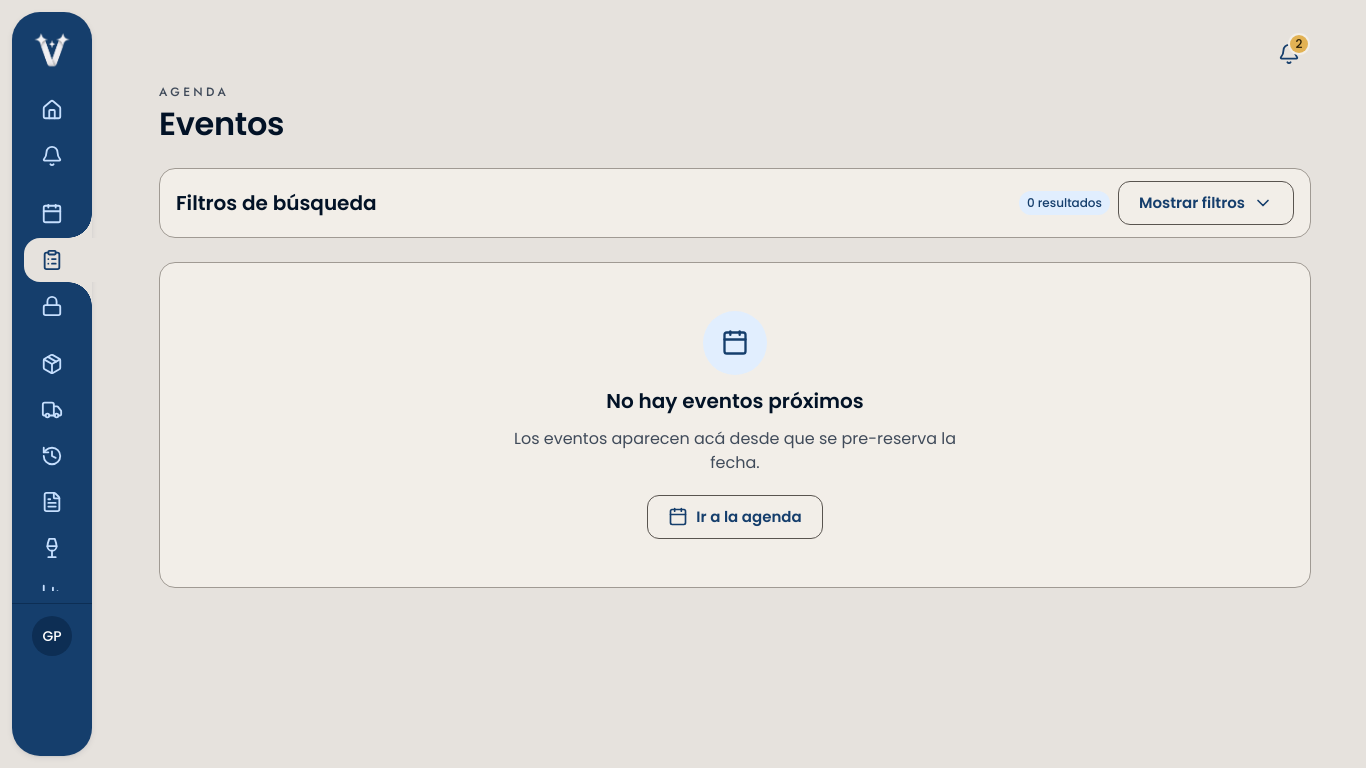
Scenario: UI-22 · notificaciones › el panel lista las sin leer y abrir una la marca y lleva a la ficha
Click the button named "Notificaciones, 2 sin leer". click: (1289, 54)
box: [1267,32,1311,76]
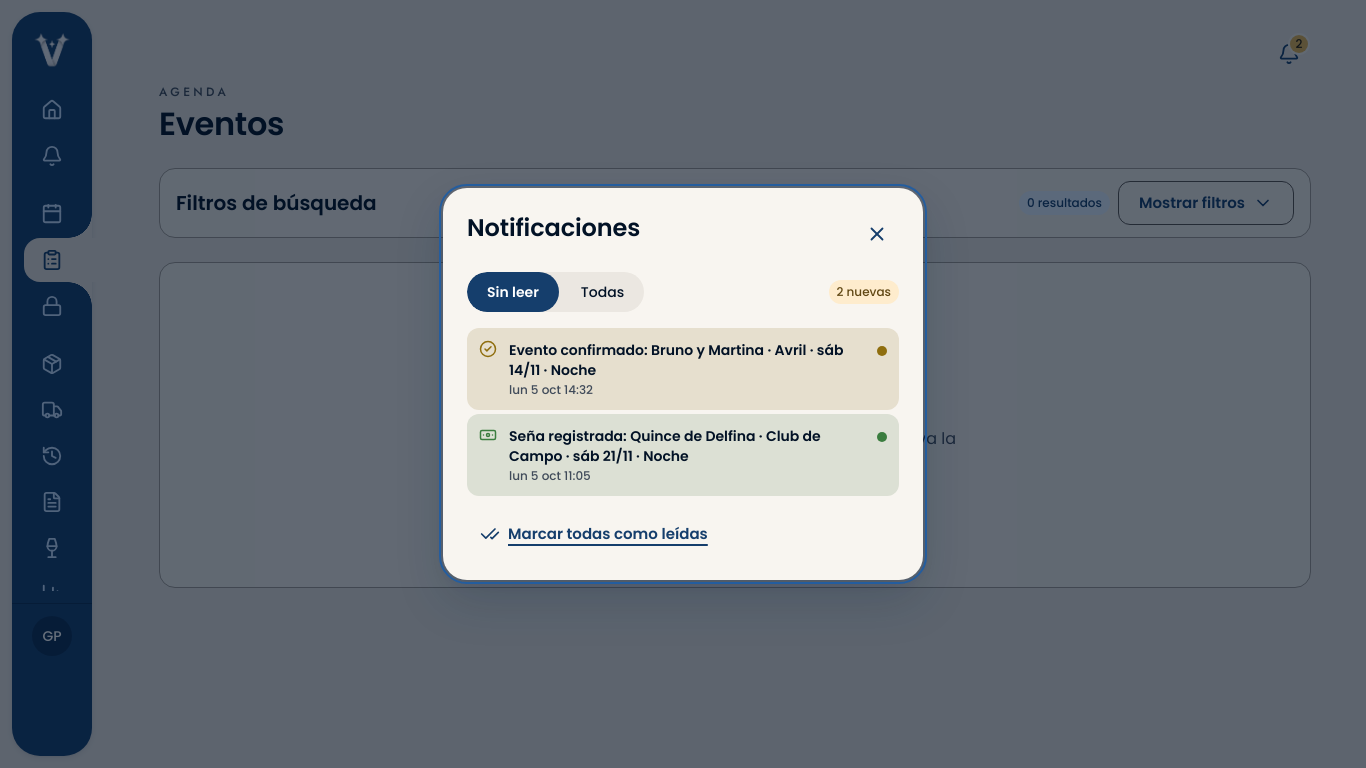
Now the text "2 nuevas" is shown, box [828,280,899,304]
Now the number of list items is 2
Click the button "Evento confirmado: Bruno y Martina". click: (536, 349)
box: [467,328,899,410]
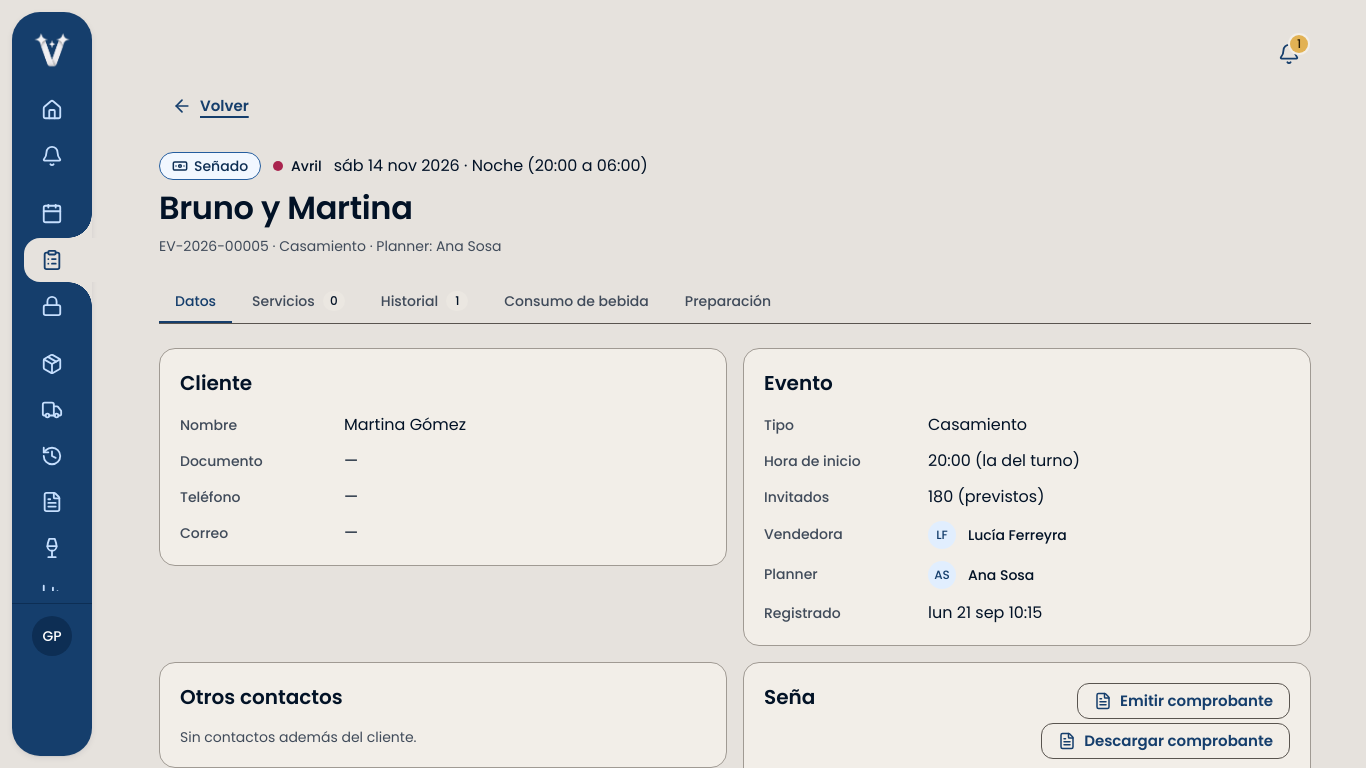
Now the heading "Notificaciones" is gone
Now the button named "Notificaciones, 1 sin leer" is shown, box [1267,32,1311,76]
